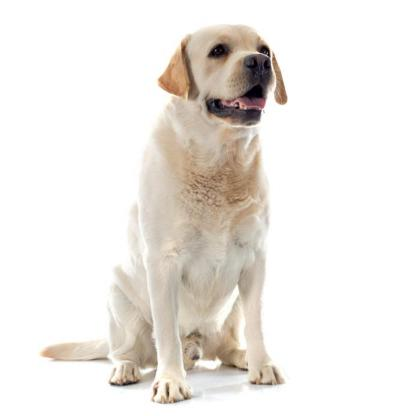dog: (30, 25, 290, 401)
